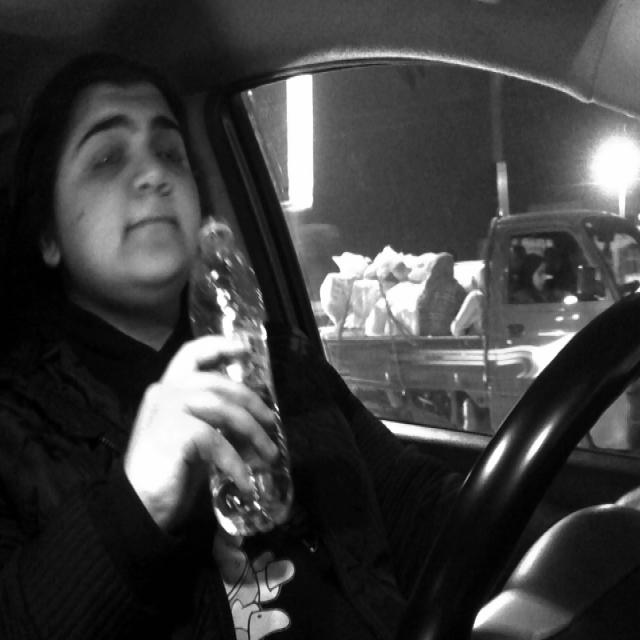drinking: (183, 213, 301, 536)
